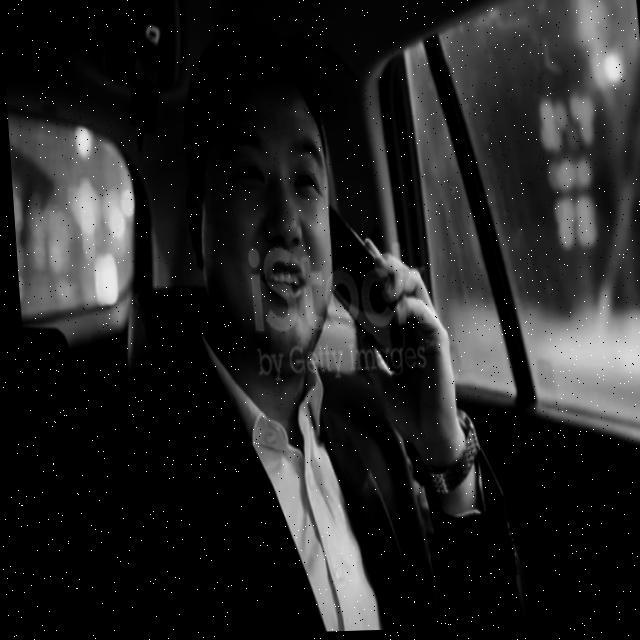PhoneCall: (322, 208, 403, 384)
